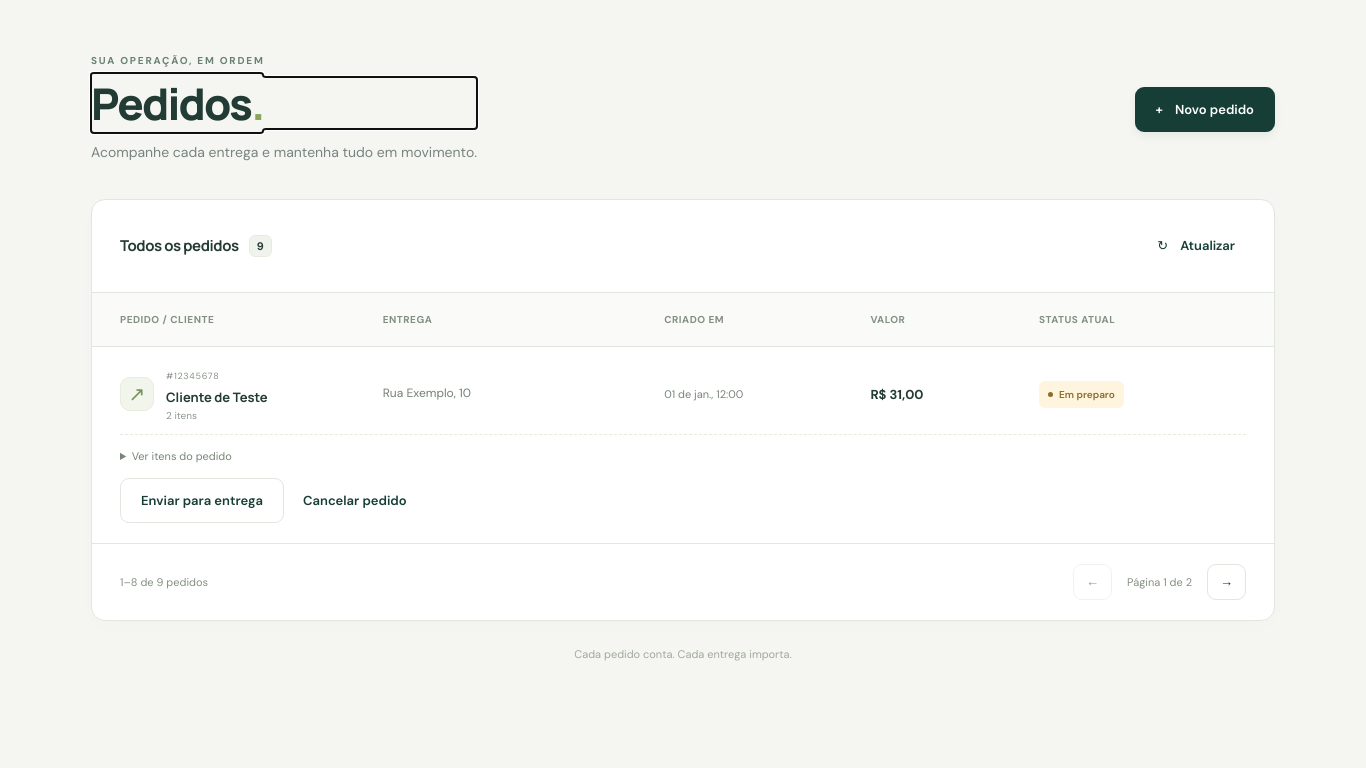
Scenario: Order workspace › requests the next server page and stores pagination in the URL
Expected: the heading "Cliente de Teste" is shown, [166, 388, 268, 406]
Click the button named "Próxima página" at (1226, 582), box [1207, 564, 1246, 600]
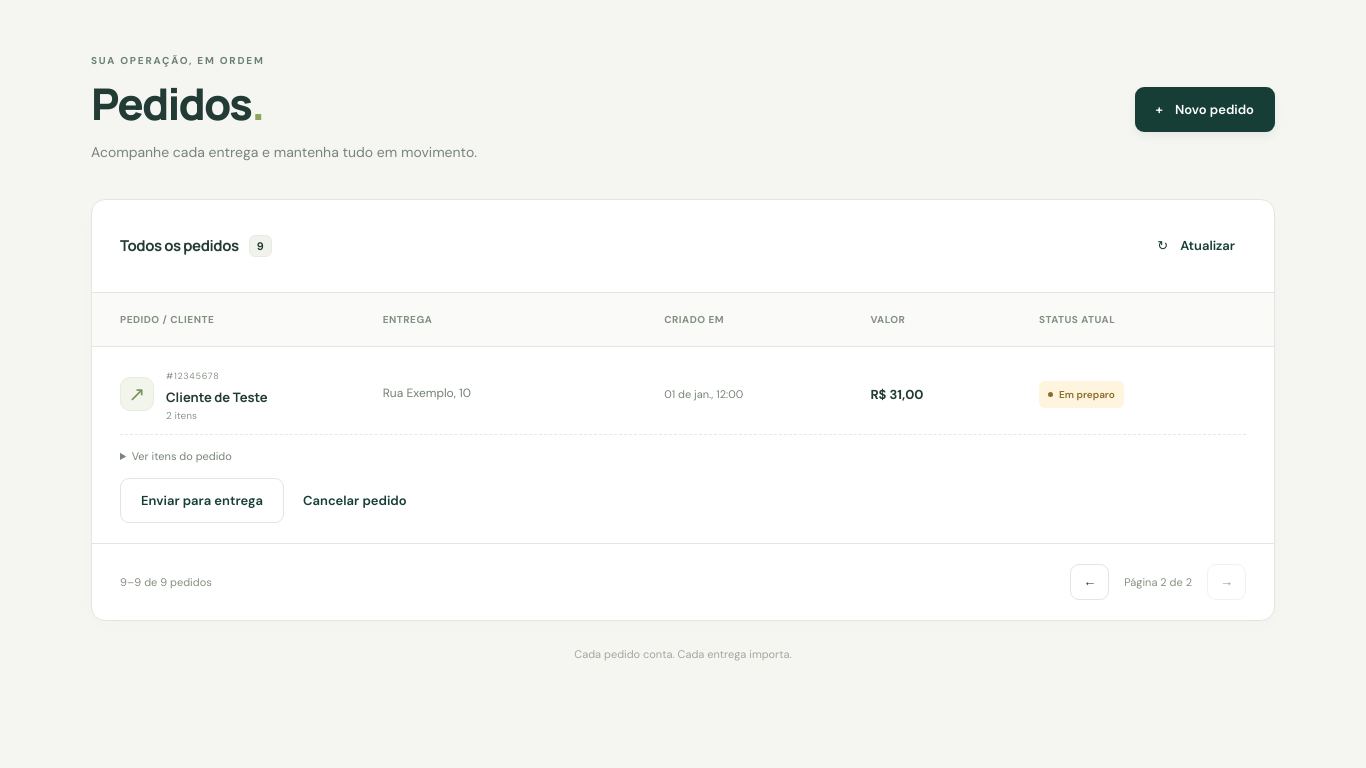
Click the button named "Página anterior" at (1090, 582), box [1070, 564, 1109, 600]
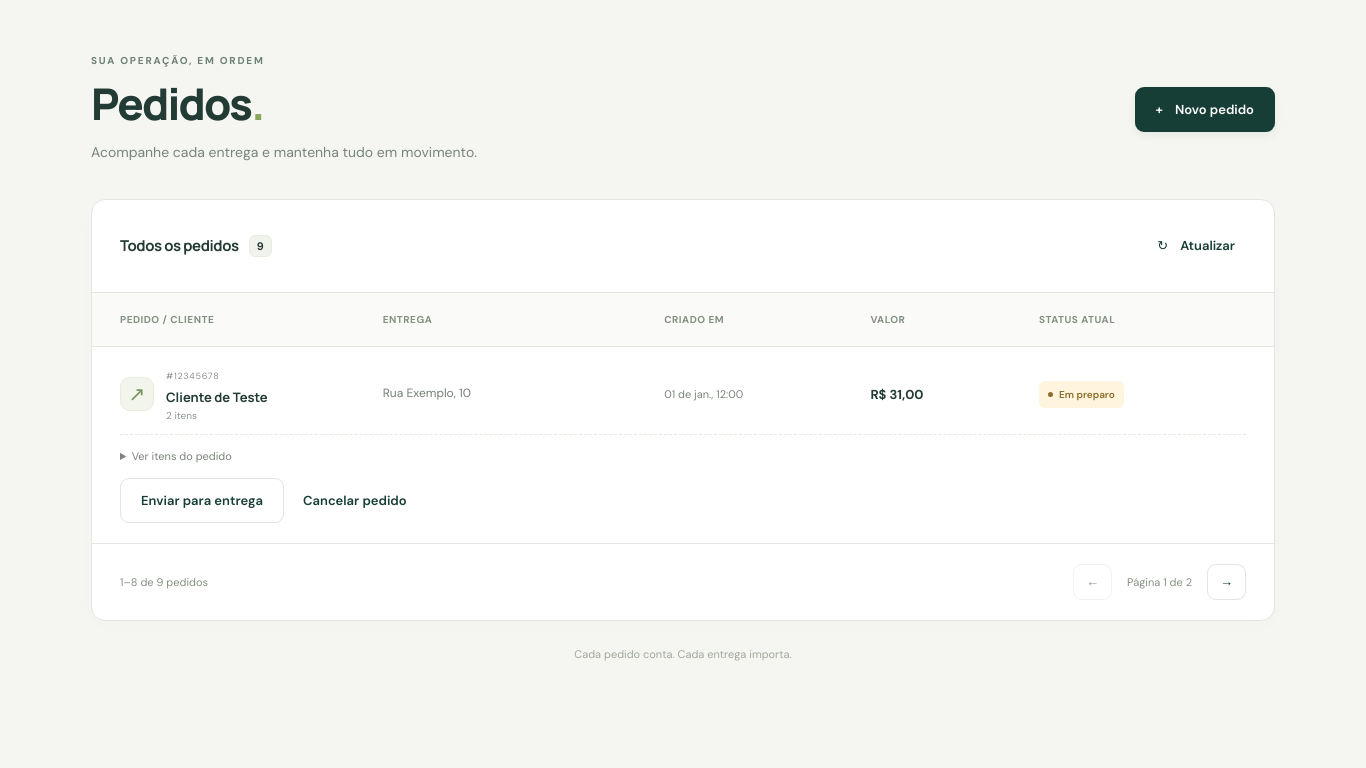
Now the button named "Página anterior" is disabled, box [1073, 564, 1112, 600]
